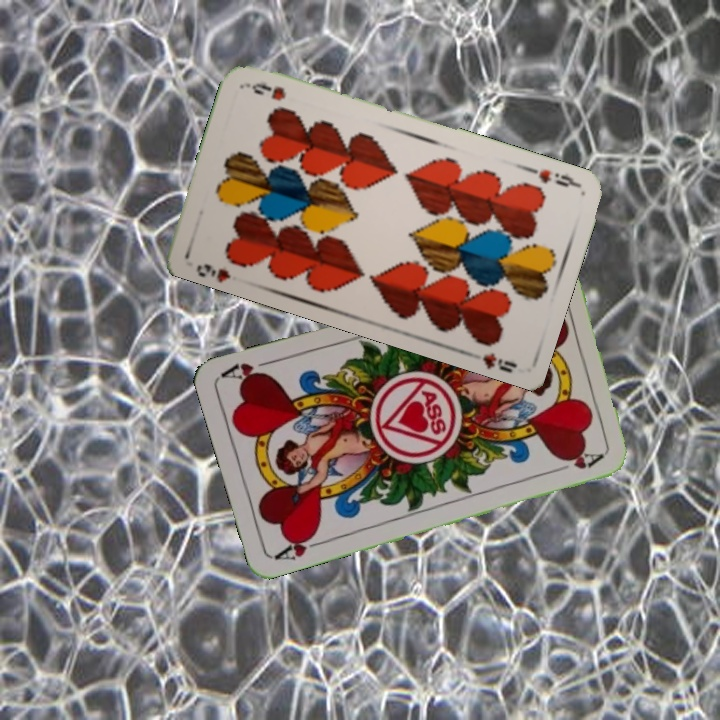H9: (534, 165, 580, 190), (192, 259, 233, 283)
HA: (271, 528, 329, 563)
